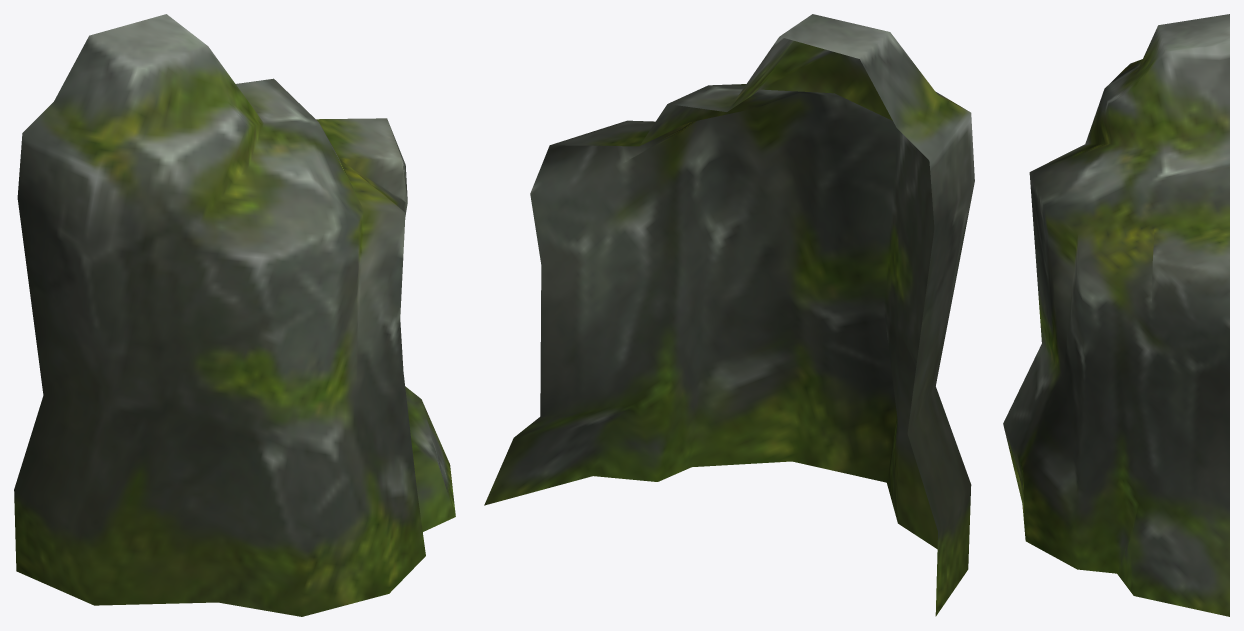
The model's file is shitou11_01.FBX.
3 renders of one model, left to right at view 1: azimuth 30°, elevation 25°; view 2: azimuth 150°, elevation 25°; view 3: azimuth 270°, elevation 25°, orthographic. The views are drawn at different scales.
Parts seen in each view (by area): view 1: shitou11_01; view 2: shitou11_01; view 3: shitou11_01.
Boxes of the visible parts, <box> form: shitou11_01: <box>14,14,455,616</box>; shitou11_01: <box>484,14,974,616</box>; shitou11_01: <box>1003,14,1229,616</box>.
Size of the model in its own units: 240 by 274 by 124.
1 material, 1 textured.
